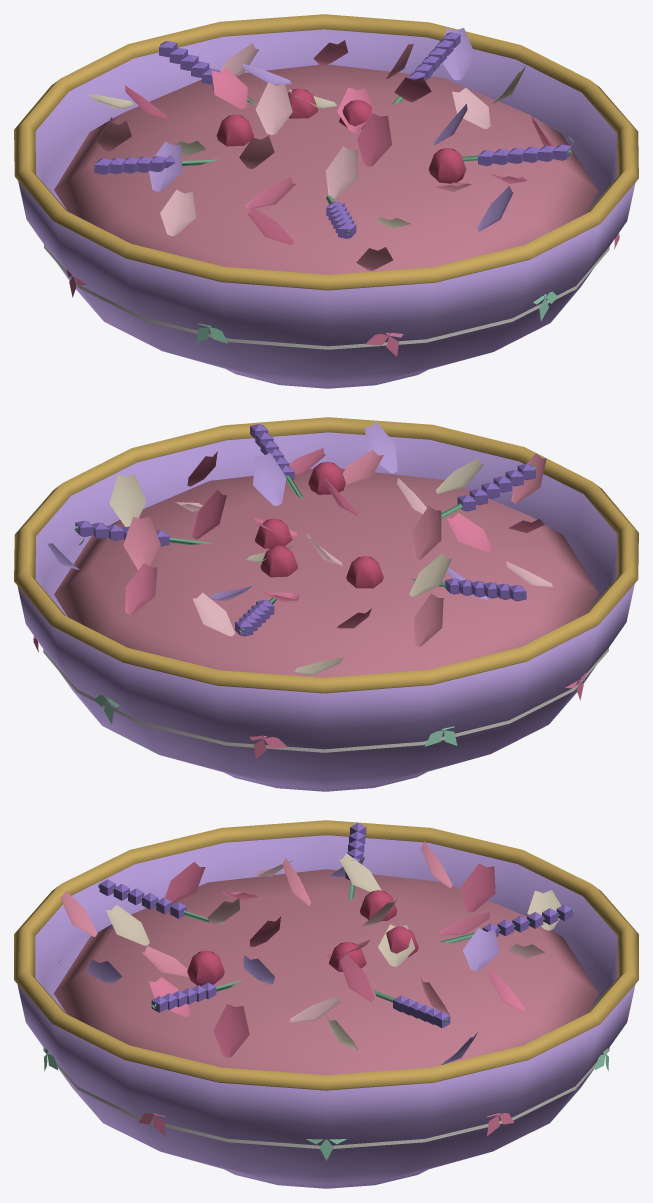
File: potpourri_bowl.glb
3 views of the same model, one above another, from view 1: azimuth 30°, elevation 25°; view 2: azimuth 150°, elevation 25°; view 3: azimuth 270°, elevation 25° (orthographic).
Parts seen in each view (by area): view 1: potpourri_bowl; view 2: potpourri_bowl; view 3: potpourri_bowl.
Boxes of the visible parts, box(x1,y1,x2,y2) form: potpourri_bowl: box(14, 14, 638, 388); potpourri_bowl: box(14, 417, 638, 791); potpourri_bowl: box(14, 820, 638, 1188).
Size of what is drawn, in the model's own units: 0.3 by 0.12 by 0.3.
